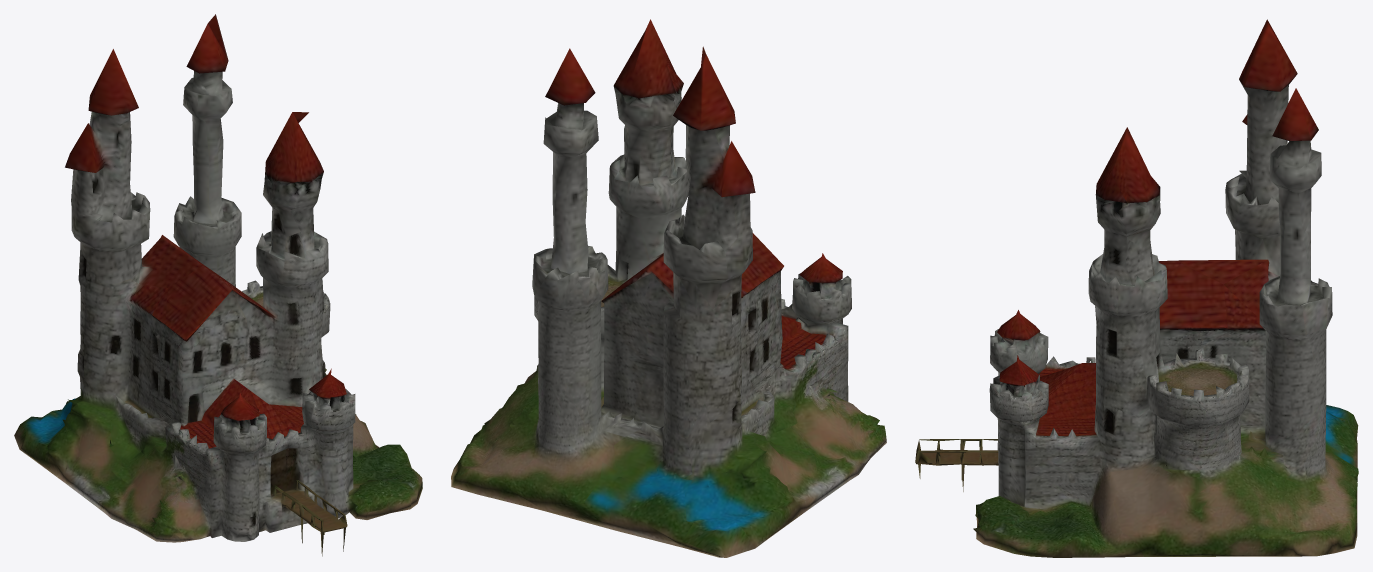
File: castle.glb
The picture shows the model from 3 angles, left to right: view 1: azimuth 30°, elevation 25°; view 2: azimuth 150°, elevation 25°; view 3: azimuth 270°, elevation 25°; orthographic projection. The views are drawn at different scales.
Visible parts, largest first — view 1: tripo_node_9a3186e6-32f8-428f-ad71-e52ff6abe521; view 2: tripo_node_9a3186e6-32f8-428f-ad71-e52ff6abe521; view 3: tripo_node_9a3186e6-32f8-428f-ad71-e52ff6abe521.
Boxes of the visible parts, <box> form: tripo_node_9a3186e6-32f8-428f-ad71-e52ff6abe521: <box>14,14,422,556</box>; tripo_node_9a3186e6-32f8-428f-ad71-e52ff6abe521: <box>451,19,886,557</box>; tripo_node_9a3186e6-32f8-428f-ad71-e52ff6abe521: <box>915,19,1358,557</box>.
Bounding box in the file's own units: 0.6796 × 0.9819 × 0.8881.
1 material, 1 textured.
